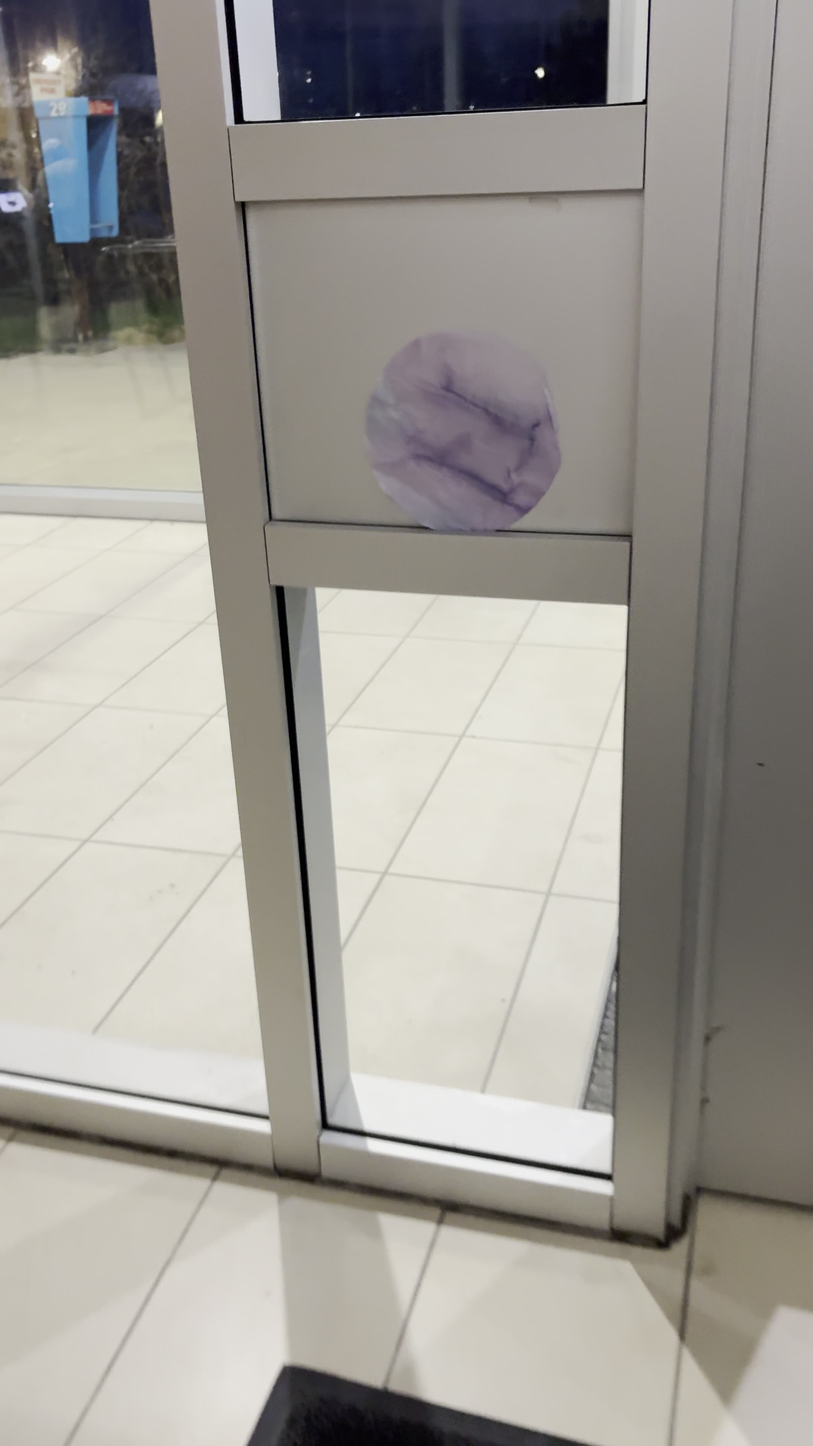Target: (361, 324, 566, 535)
